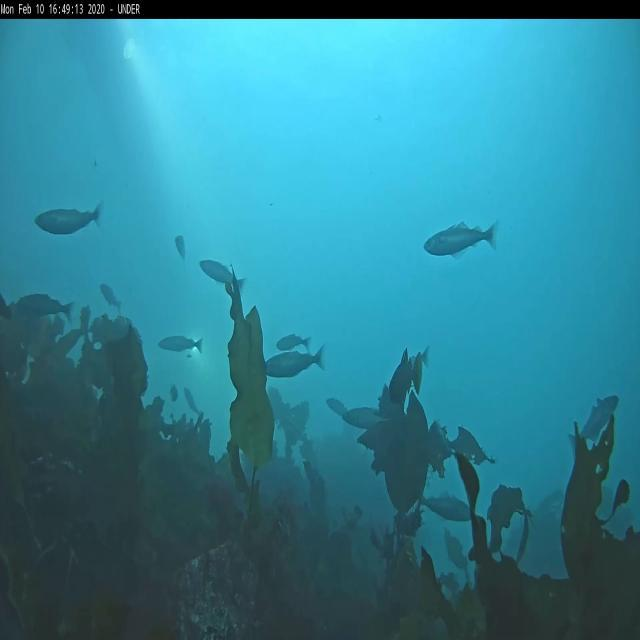fish: (425, 219, 499, 266), (568, 394, 619, 456), (37, 199, 103, 237), (262, 344, 324, 377), (418, 488, 472, 525), (16, 292, 72, 325), (200, 259, 246, 296), (342, 405, 389, 436), (158, 335, 202, 354), (100, 280, 122, 316), (404, 346, 432, 374), (276, 332, 310, 352), (326, 394, 349, 420), (184, 386, 203, 416), (174, 232, 186, 262)
